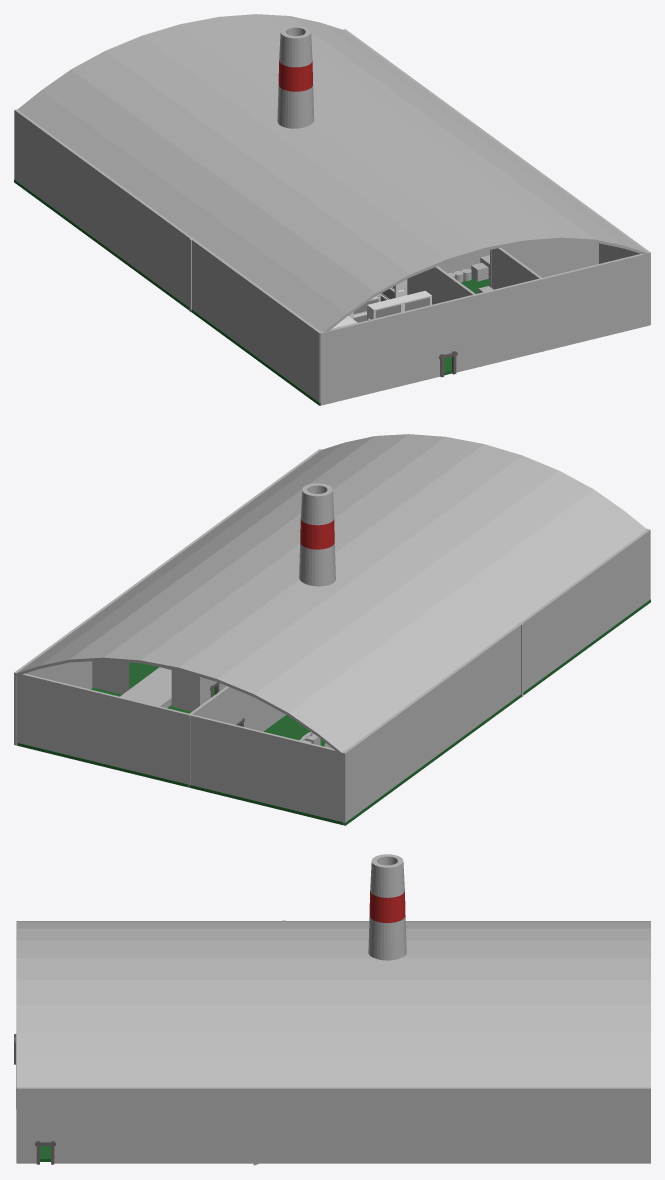
3 renders of one model, top to bottom at view 1: azimuth 30°, elevation 25°; view 2: azimuth 150°, elevation 25°; view 3: azimuth 270°, elevation 25°, orthographic. The views are drawn at different scales.
Visible parts, largest first — view 1: Cube.009, Cube.011, Cube.001, 柱体, Cube.007, Cube, Cube.002, Cube.008, Cube.003, 立方体.196; view 2: Cube.009, Cube.010, Cube.001, Cube, 柱体, Cube.003, Cube.002, Cube.016, 立方体.188; view 3: Cube.009, Cube.002, 柱体.
Boxes of the visible parts, x1,y1,x2,y2 form: Cube.009: (18, 14, 647, 332); Cube.011: (320, 253, 649, 405); Cube.001: (14, 109, 320, 402); 柱体: (277, 25, 314, 128); Cube.007: (490, 240, 598, 287); Cube: (14, 179, 489, 405); Cube.002: (343, 29, 650, 325); Cube.008: (492, 248, 544, 351); Cube.003: (407, 266, 476, 304); 立方体.196: (367, 290, 431, 320); Cube.009: (15, 434, 646, 755); Cube.010: (17, 673, 343, 821); Cube.001: (342, 530, 650, 825); Cube: (17, 599, 650, 825); 柱体: (299, 483, 335, 586); Cube.003: (187, 686, 285, 787); Cube.002: (14, 449, 321, 745); Cube.016: (92, 660, 201, 711); 立方体.188: (120, 667, 332, 748); Cube.009: (16, 921, 650, 1087); Cube.002: (16, 1087, 650, 1163); 柱体: (368, 854, 406, 960).
Bounding box in the file's own units: 29830 × 18034 × 47499.
